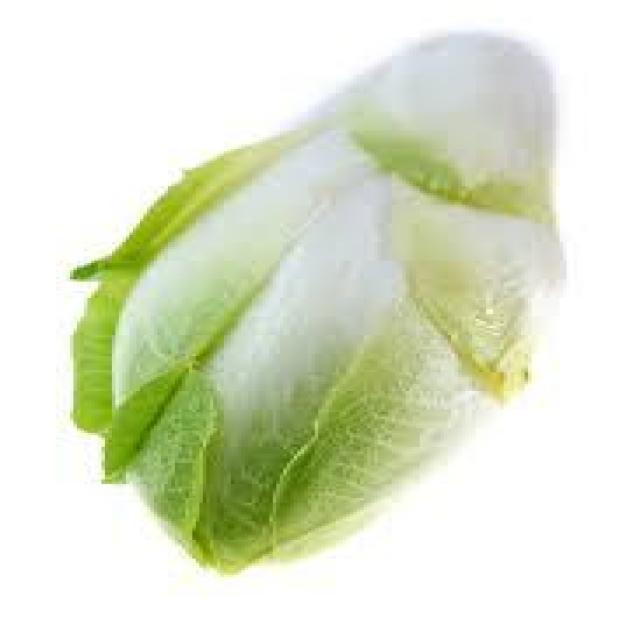organic: (66, 26, 574, 577)
